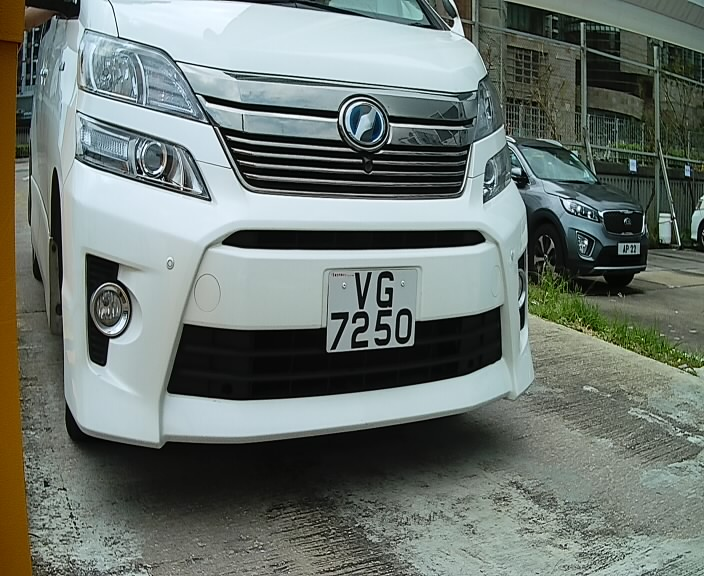Car: (26, 2, 545, 487)
License Plate: (316, 260, 435, 365)
